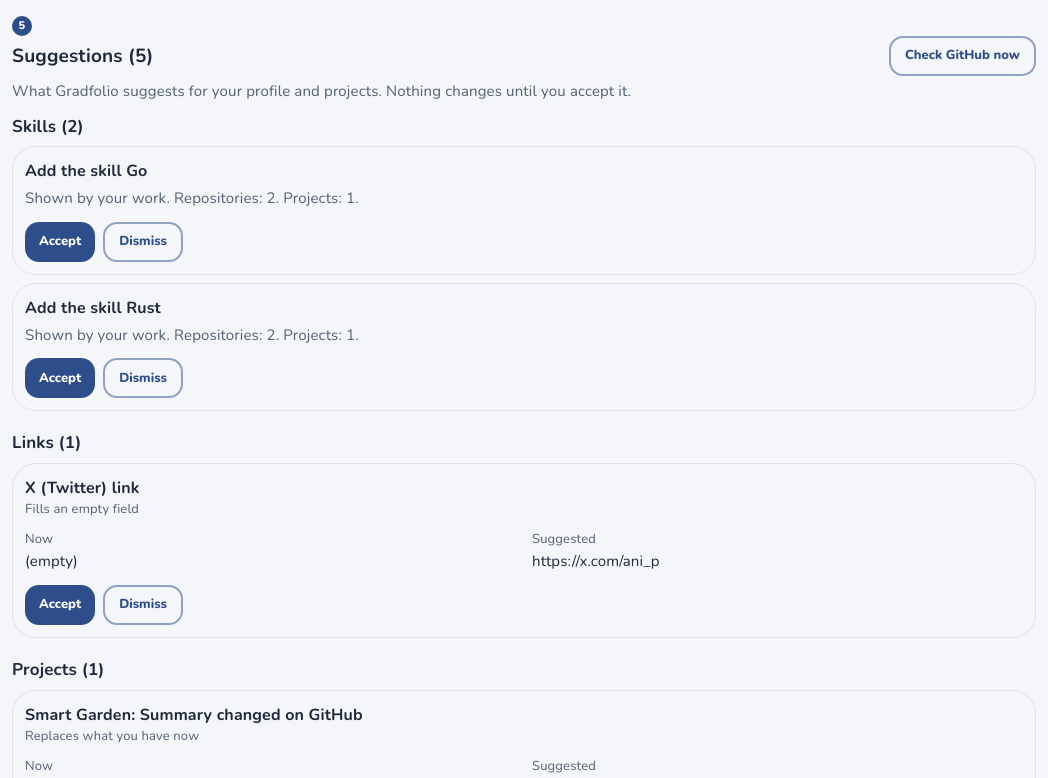
Test case: the inbox › SUGGESTION_RESOLVED: says it was already answered and removes the card
Expected: the heading "Suggestions (5)" is shown, [12,44,154,68]
What coordinates should you click on to do the following:
click the button with aria-label "Dismiss: Add the skill Go"
I would click on:
 (143, 242)
Its box is [103,222,183,262].
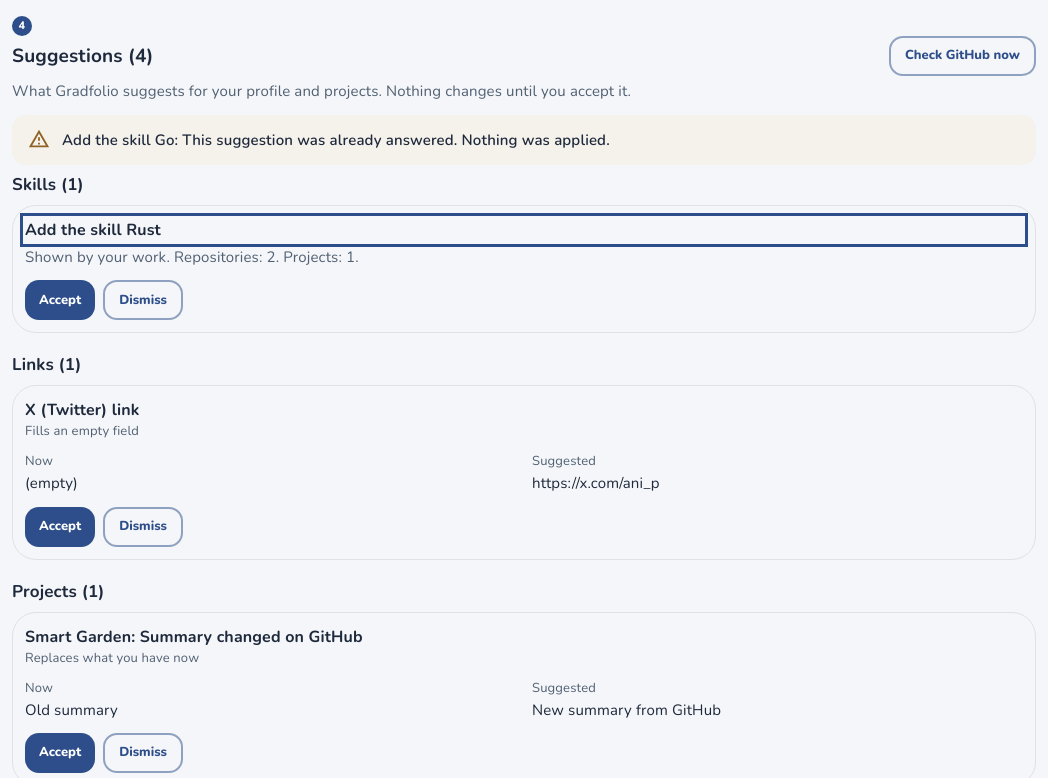
Expected: the message shows "This suggestion was already answered", [62,130,610,150]
